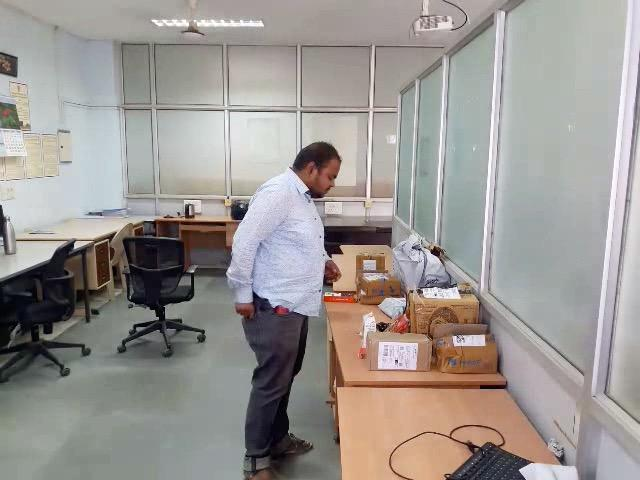shoplifting: (170, 274, 356, 389)
